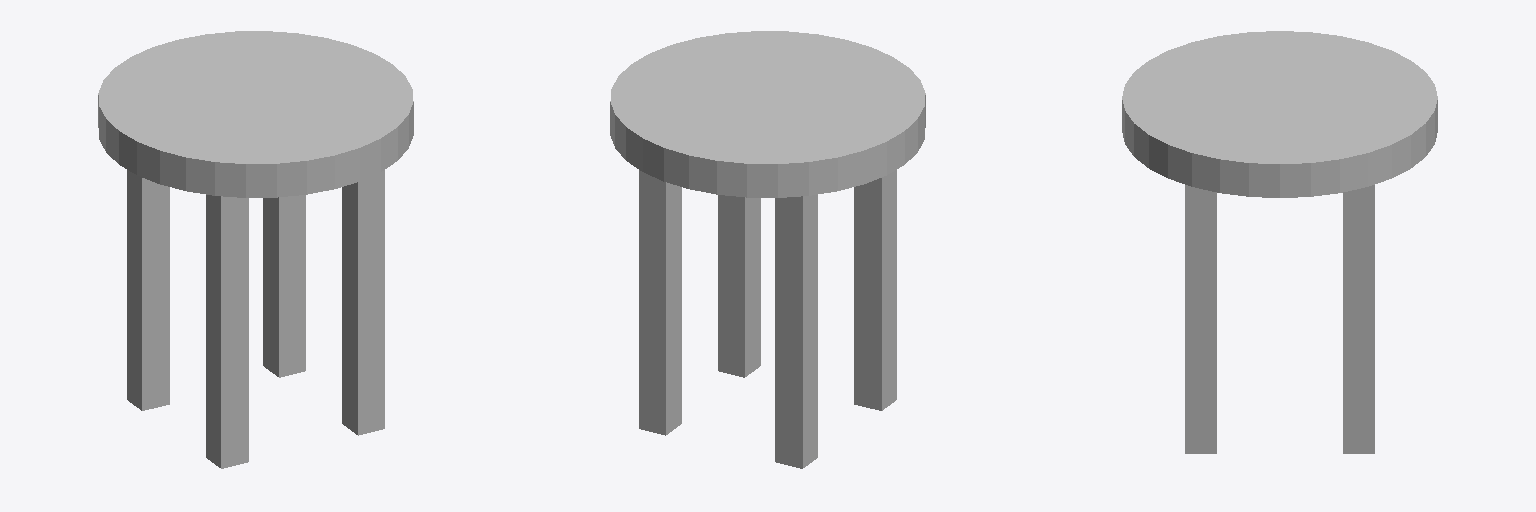
File: mini_chair.obj
3 renders of one model, left to right at view 1: azimuth 30°, elevation 25°; view 2: azimuth 150°, elevation 25°; view 3: azimuth 270°, elevation 25°, orthographic.
Parts seen in each view (by area): view 1: Cylinder, Cube.002, Cube.003, Cube.001, Cube; view 2: Cylinder, Cube.001, Cube, Cube.002, Cube.003; view 3: Cylinder, Cube, Cube.003.
Part boxes in pixels (x1,y1,x2,y2): Cylinder: (98, 31, 413, 197); Cube.002: (206, 195, 248, 468); Cube.003: (342, 170, 384, 435); Cube.001: (127, 170, 169, 410); Cube: (263, 195, 305, 377); Cylinder: (610, 31, 925, 197); Cube.001: (775, 195, 817, 468); Cube: (639, 170, 681, 435); Cube.002: (854, 170, 896, 410); Cube.003: (718, 195, 760, 377); Cylinder: (1122, 31, 1437, 197); Cube: (1343, 185, 1374, 453); Cube.003: (1185, 185, 1216, 453).
Size of the model in its own units: 2 by 2.21 by 2.